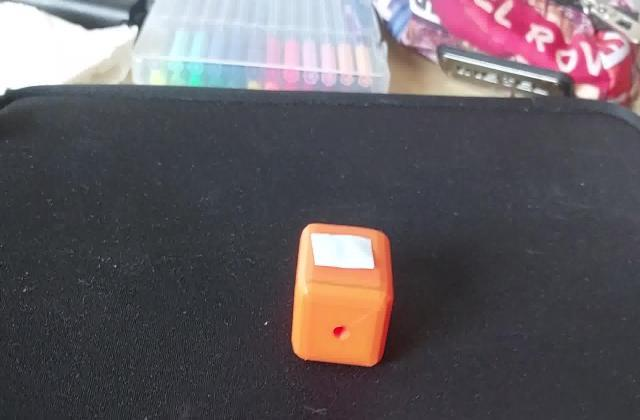cube: (290, 217, 400, 371)
white: (308, 232, 382, 278)
